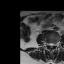CCS_normal: (50, 40, 52, 50)
LFS_normal: (54, 40, 57, 48)
LLS_normal: (52, 40, 54, 48)
RFS_normal: (46, 40, 48, 47)
RLS_normal: (48, 40, 50, 48)
